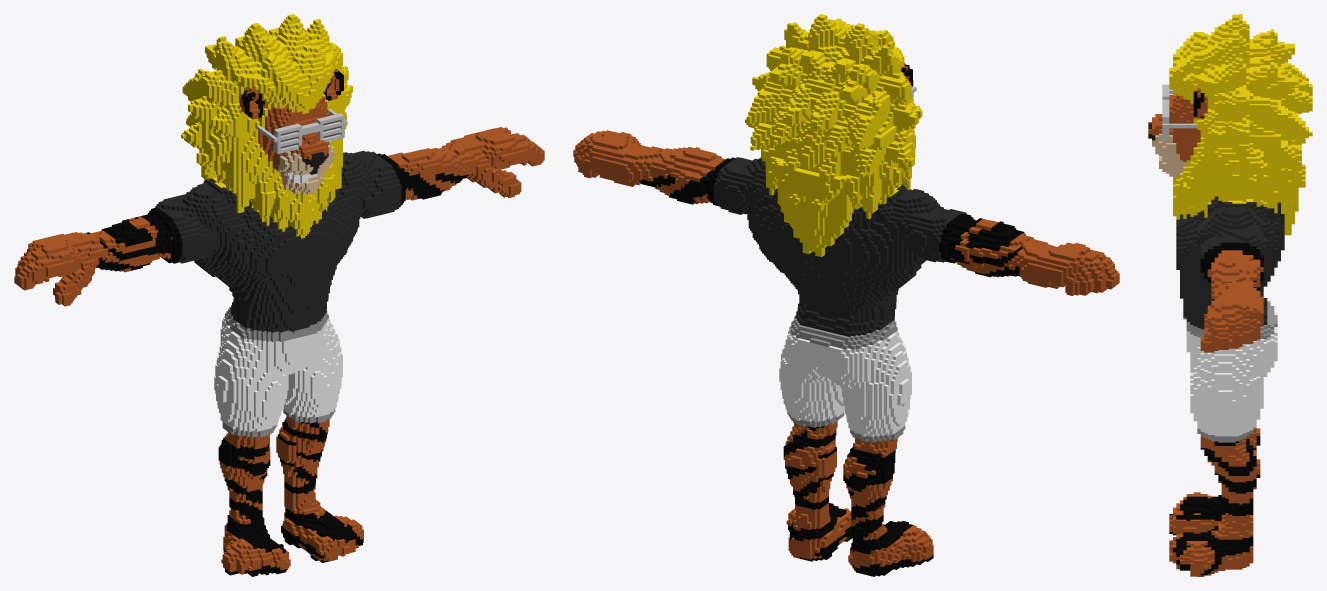
The model's file is 1019-BixPWy6y.glb.
The picture shows the model from 3 angles, left to right: view 1: azimuth 30°, elevation 25°; view 2: azimuth 150°, elevation 25°; view 3: azimuth 270°, elevation 25°; orthographic projection. The views are drawn at different scales.
Parts seen in each view (by area): view 1: grin; view 2: grin; view 3: grin.
Boxes of the visible parts, bbox=[...] form: grin: bbox=[14, 14, 544, 576]; grin: bbox=[573, 14, 1119, 576]; grin: bbox=[1148, 14, 1312, 576].
Size of the model in its own units: 17.2 by 16.5 by 4.7.
5 materials, 5 textured.
